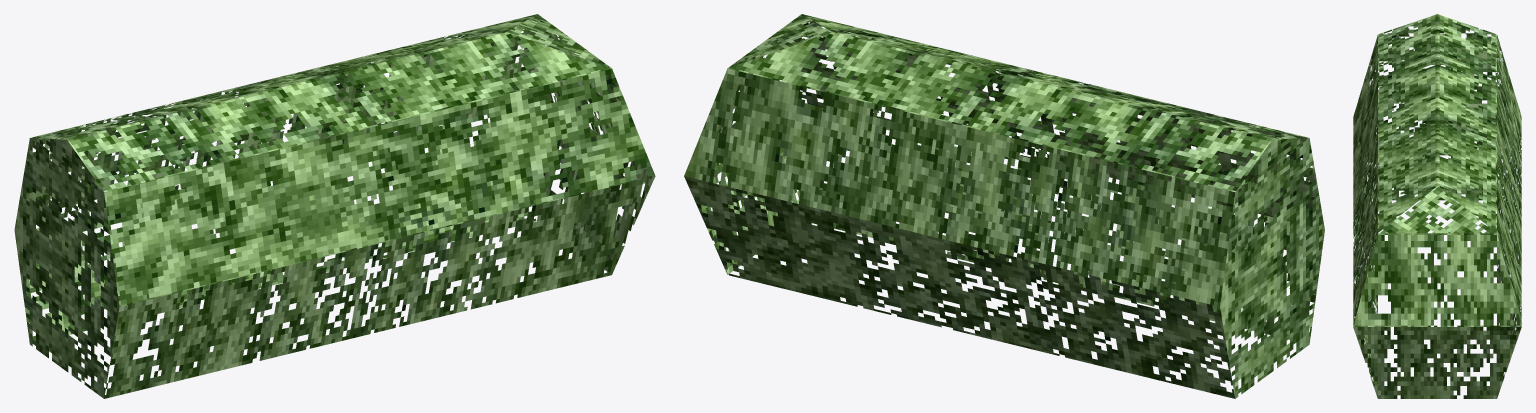
File: bush_long_open_right_summer.glb
3 views of the same model, side by side, from view 1: azimuth 30°, elevation 25°; view 2: azimuth 150°, elevation 25°; view 3: azimuth 270°, elevation 25° (orthographic). The views are drawn at different scales.
Parts seen in each view (by area): view 1: bush_long_open_right_summer; view 2: bush_long_open_right_summer; view 3: bush_long_open_right_summer.
Part boxes in pixels (x1=…): bush_long_open_right_summer: x1=14, y1=14, x2=655, y2=398; bush_long_open_right_summer: x1=684, y1=14, x2=1324, y2=398; bush_long_open_right_summer: x1=1353, y1=14, x2=1521, y2=398.
Bounding box in the file's own units: 2.12 × 0.8765 × 0.7192.
Materials: 1 (1 with a texture image).
